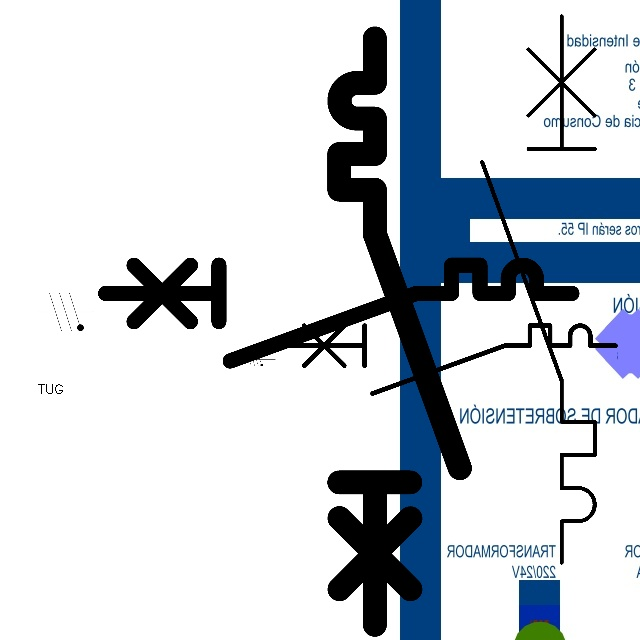interruptor_termomagnetico: (324, 23, 475, 640), (468, 2, 609, 577), (93, 253, 584, 373), (275, 317, 623, 402)
